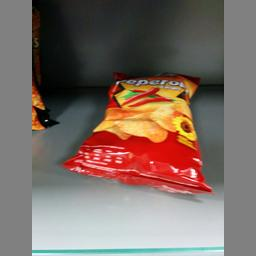chips: (92, 70, 212, 196)
